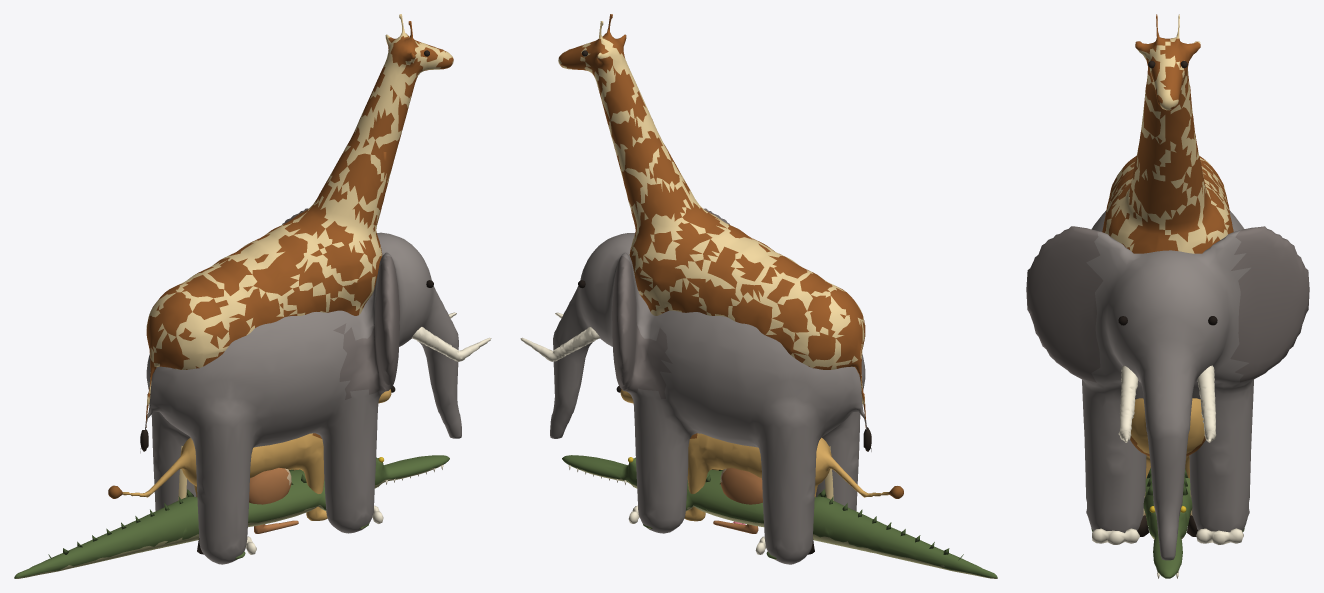
Rendered from kit_faune.glb.
3 views of the same model, side by side, from view 1: azimuth 30°, elevation 25°; view 2: azimuth 150°, elevation 25°; view 3: azimuth 270°, elevation 25° (orthographic). The views are drawn at different scales.
Parts seen in each view (by area): view 1: elephant__corps, girafe__corps, girafe__corps_girafe, crocodile__corps_crocodile, elephant__corps_oreille, lion__corps_lion, kangourou__corps, crocodile__corps, elephant__defenses; view 2: elephant__corps, girafe__corps, girafe__corps_girafe, crocodile__corps_crocodile, elephant__corps_oreille, lion__corps_lion, kangourou__corps, crocodile__corps, elephant__defenses; view 3: elephant__corps, elephant__corps_oreille, girafe__corps, girafe__corps_girafe, elephant__defenses, crocodile__corps_crocodile, lion__corps_lion, elephant__ongles.
Part boxes in pixels (x1,y1,x2,y2): elephant__corps: (140,232,461,564); girafe__corps: (146,21,453,427); girafe__corps_girafe: (146,14,453,500); crocodile__corps_crocodile: (14,455,449,578); elephant__corps_oreille: (282,208,399,399); lion__corps_lion: (122,389,391,520); kangourou__corps: (249,468,298,533); crocodile__corps: (15,464,443,578); elephant__defenses: (412,312,491,361); elephant__corps: (550,233,871,564); girafe__corps: (559,14,865,446); girafe__corps_girafe: (558,21,865,500); crocodile__corps_crocodile: (562,455,997,578); elephant__corps_oreille: (612,208,729,398); lion__corps_lion: (620,389,888,521); kangourou__corps: (713,468,762,533); crocodile__corps: (571,466,997,578); elephant__defenses: (520,312,599,361); elephant__corps: (1076,210,1259,560); elephant__corps_oreille: (1026,226,1309,382); girafe__corps: (1102,14,1233,253); girafe__corps_girafe: (1105,14,1230,515); elephant__defenses: (1118,365,1216,442); crocodile__corps_crocodile: (1091,478,1244,578); lion__corps_lion: (1131,398,1204,515); elephant__ongles: (1092,528,1243,544).
Size of the model in its own units: 5.08 by 5.06 by 2.28.
